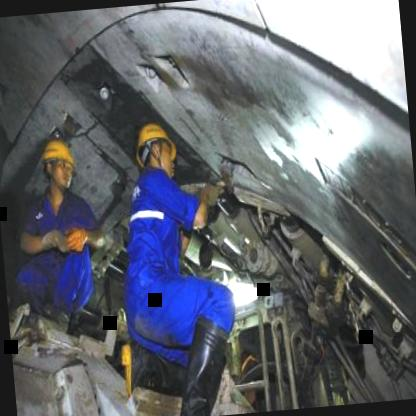helmet: (130, 115, 182, 185), (36, 134, 80, 196)
